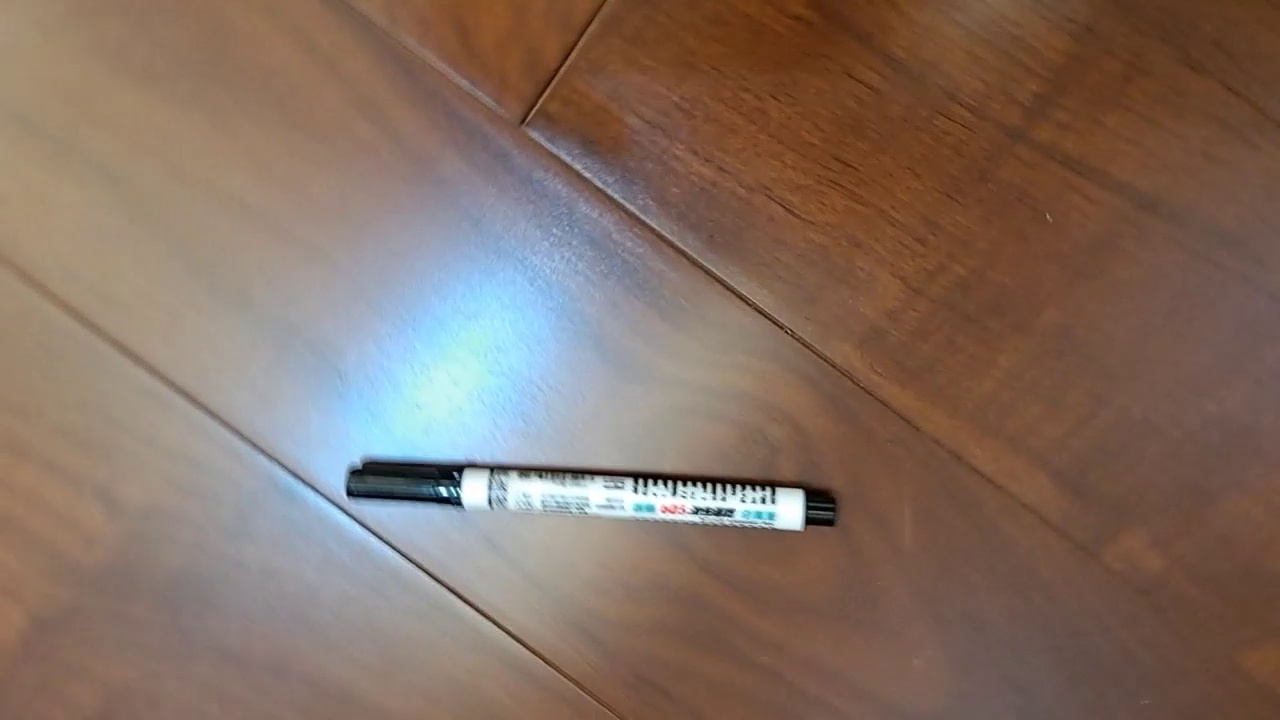pen: (344, 457, 838, 534)
